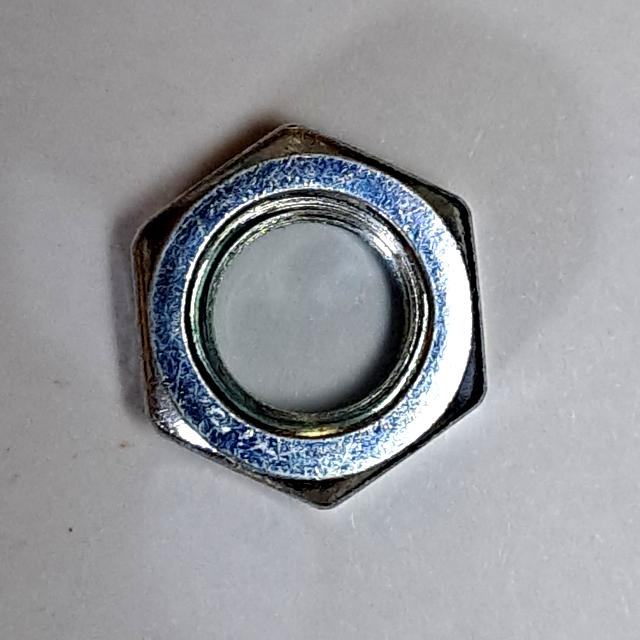Excellent: (108, 106, 505, 531)
